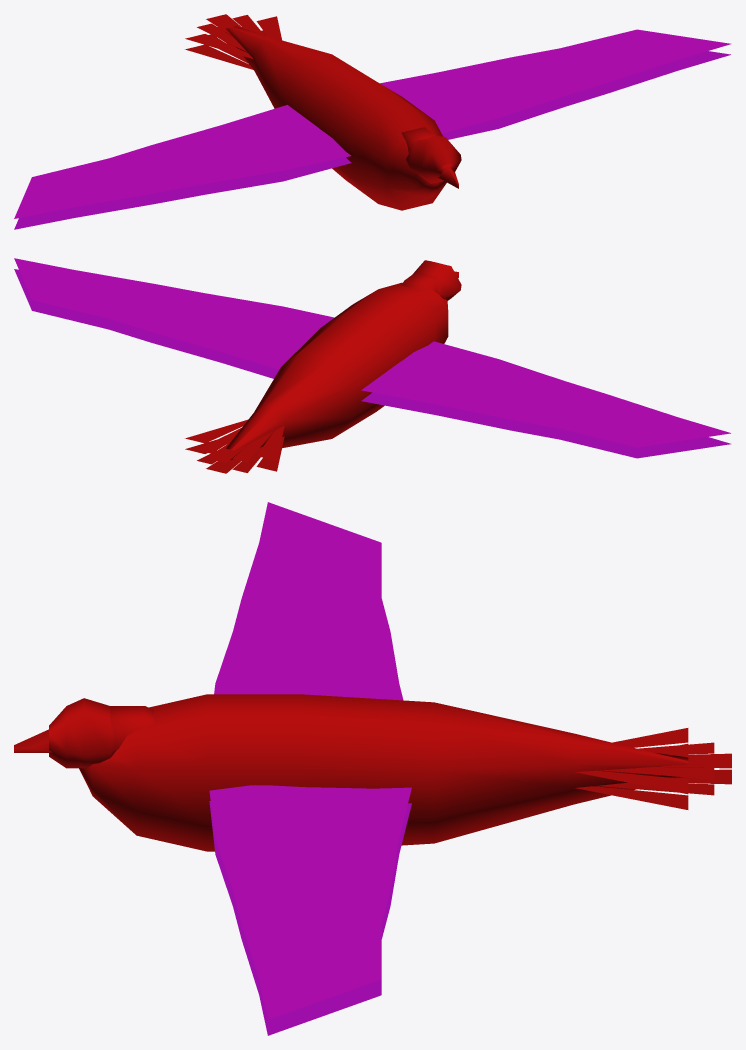
Rendered from blackguillemot.glb.
3 renders of one model, top to bottom at view 1: azimuth 30°, elevation 25°; view 2: azimuth 150°, elevation 25°; view 3: azimuth 270°, elevation 25°, orthographic. The views are drawn at different scales.
Visible parts, largest first — view 1: bird; view 2: bird; view 3: bird.
Part boxes in pixels (left/top/right/bottom): bird: left=14, top=14, right=730, bottom=229; bird: left=14, top=258, right=730, bottom=473; bird: left=14, top=502, right=731, bottom=1035.
Bounding box in the file's own units: 0.5469 × 0.0664 × 0.3203.
